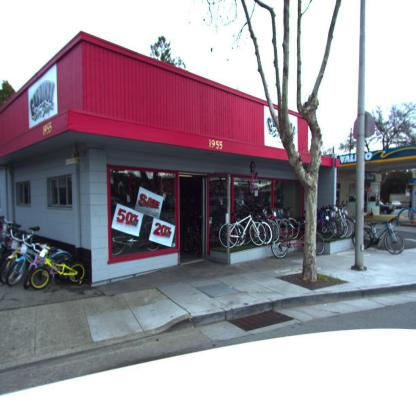bicycle: (22, 228, 84, 288), (0, 222, 34, 287), (362, 217, 407, 255), (270, 216, 310, 258), (220, 213, 267, 247)
